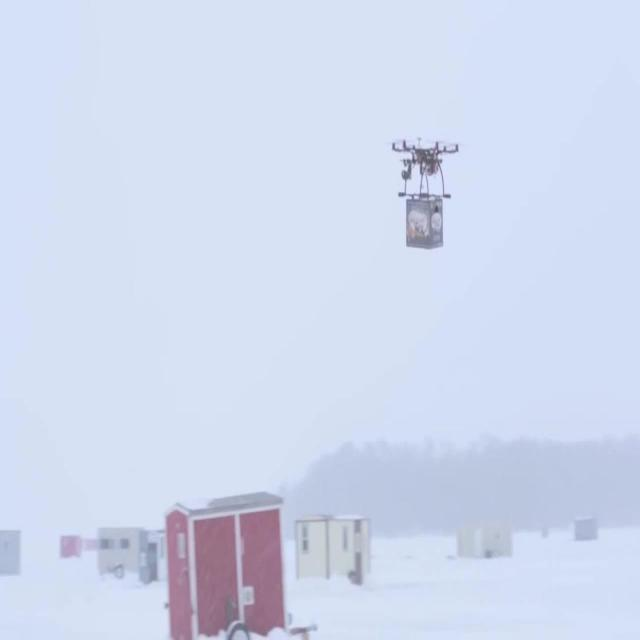UAV: (384, 138, 458, 198)
